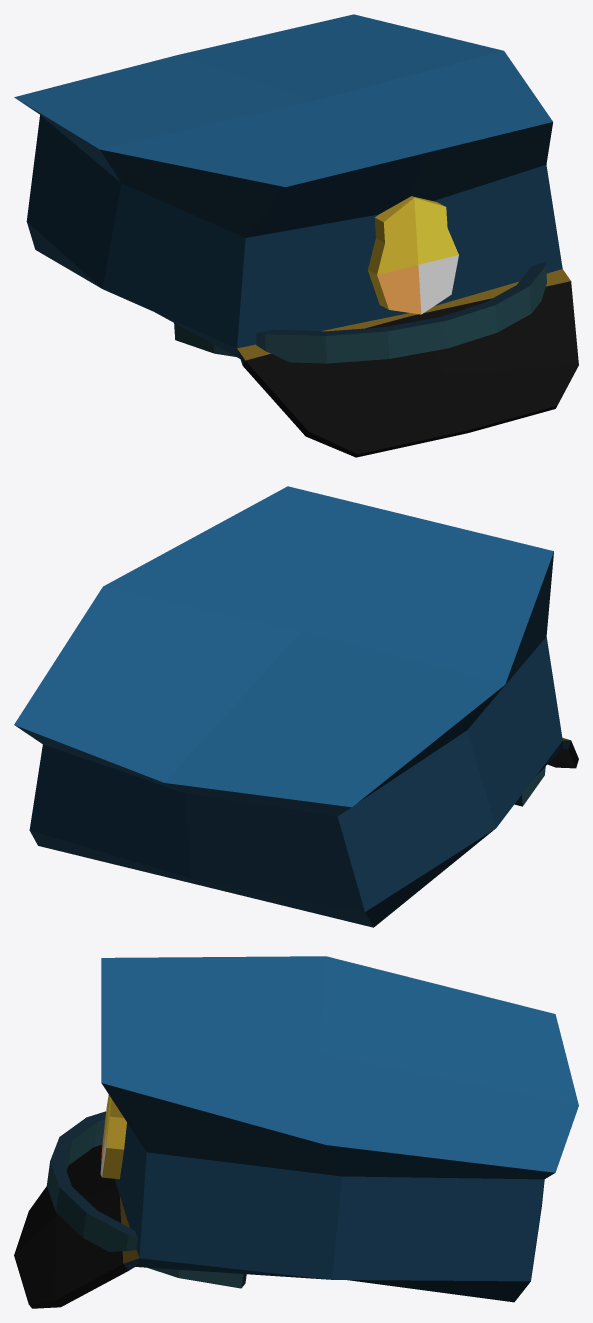
Rendered from Police Hat.fbx.
3 views of the same model, one above another, from view 1: azimuth 30°, elevation 25°; view 2: azimuth 150°, elevation 25°; view 3: azimuth 270°, elevation 25° (orthographic). The views are drawn at different scales.
Visible parts, largest first — view 1: Police_Hat; view 2: Police_Hat; view 3: Police_Hat.
Boxes of the visible parts, <box> form: Police_Hat: <box>14,14,578,457</box>; Police_Hat: <box>14,486,578,927</box>; Police_Hat: <box>14,956,578,1308</box>.
Size of the model in its own units: 94.03 by 56.08 by 119.
